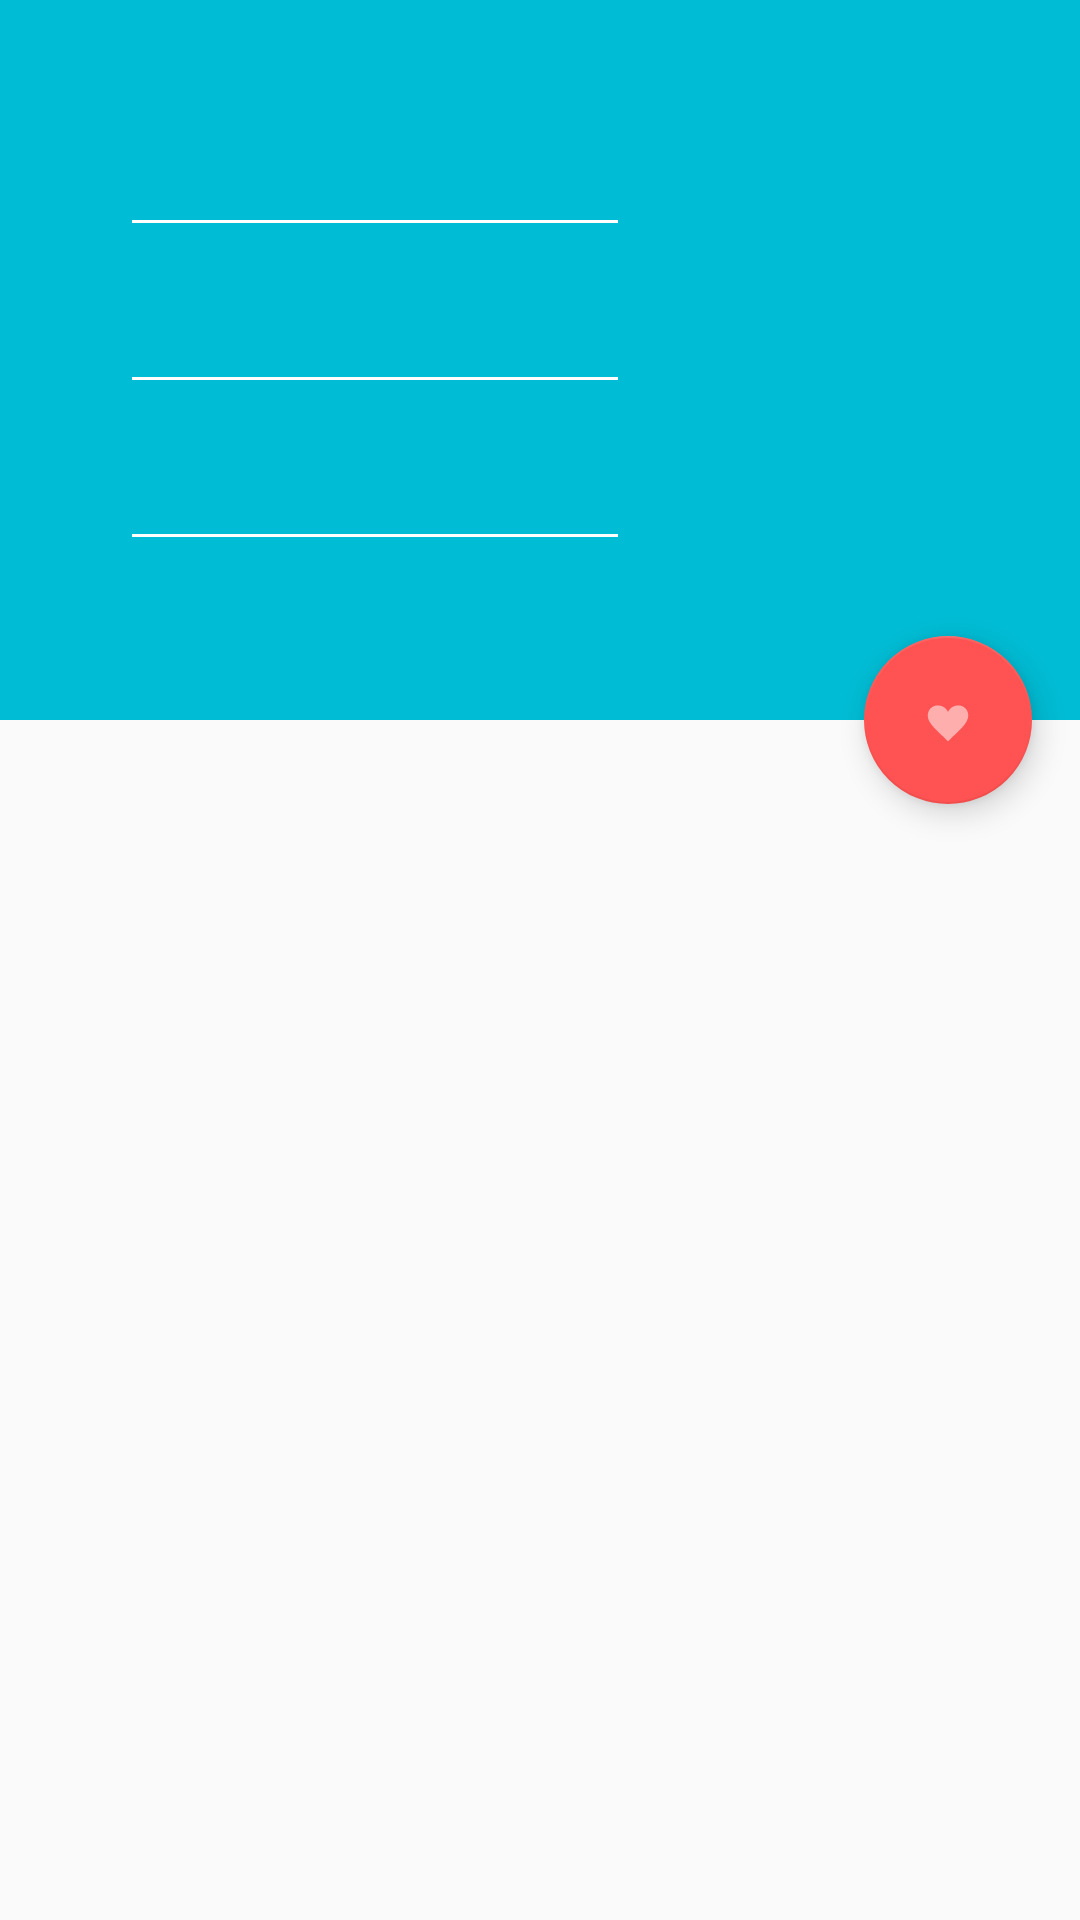

Point at icon controls on the screen. Image size 1080 × 1920, points as (x,y).
heart: (948,720)
